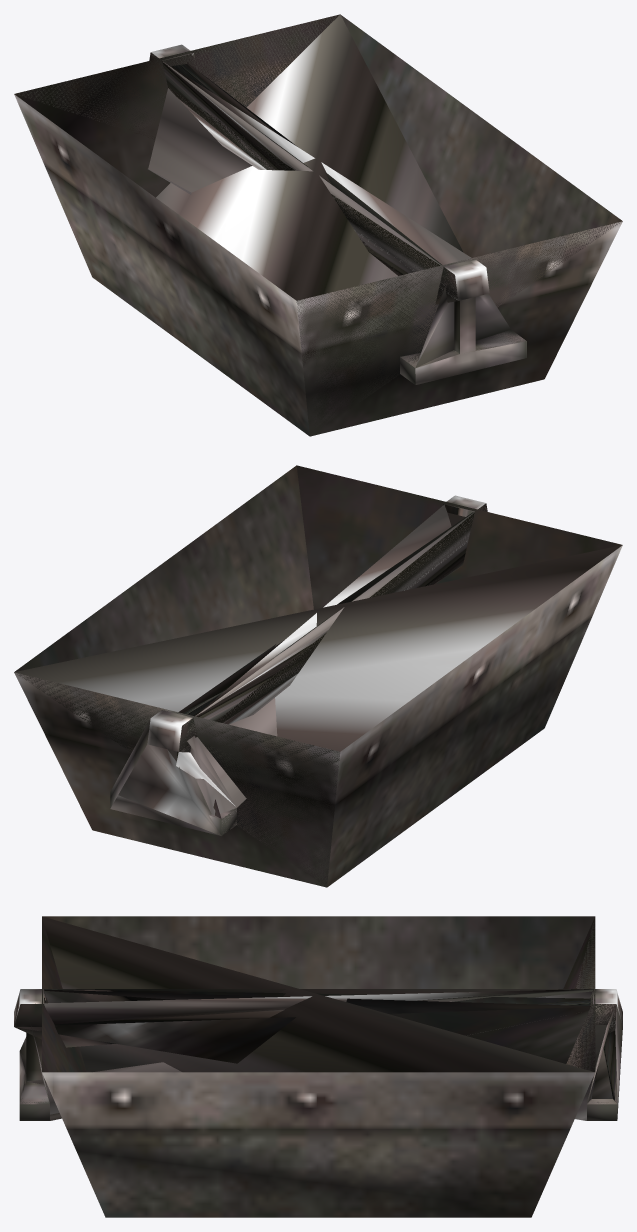
Rendered from stst92.dae.
3 views of the same model, one above another, from view 1: azimuth 30°, elevation 25°; view 2: azimuth 150°, elevation 25°; view 3: azimuth 270°, elevation 25° (orthographic). The views are drawn at different scales.
Visible parts, largest first — view 1: bd, lock, topp; view 2: bd, lock, topp; view 3: bd, lock, topp.
Boxes of the visible parts, box(x1,y1,x2,y2) form: bd: box(14, 14, 622, 436); lock: box(16, 14, 619, 435); topp: box(152, 53, 457, 299); bd: box(14, 465, 622, 887); lock: box(14, 504, 622, 886); topp: box(118, 503, 487, 835); bd: box(14, 916, 622, 1217); lock: box(19, 916, 622, 1120); topp: box(15, 989, 617, 1120).
Size of the model in its own units: 1 by 1.65 by 0.5.
Materials: 1 (1 with a texture image).
